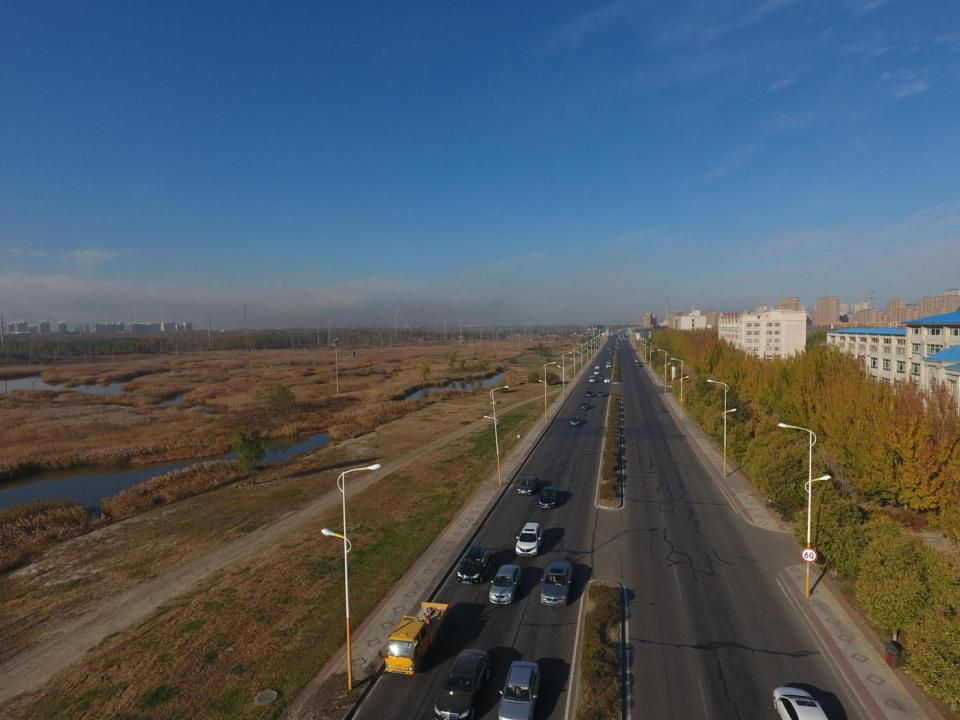car: (434, 648, 490, 720), (496, 660, 541, 720), (772, 686, 833, 720), (540, 561, 574, 607), (488, 563, 523, 606), (457, 547, 491, 584), (515, 523, 542, 560), (517, 476, 541, 496), (539, 485, 558, 509), (570, 415, 581, 426), (580, 401, 589, 410), (598, 390, 605, 398), (585, 390, 593, 397), (604, 377, 610, 383), (599, 374, 605, 379), (593, 371, 600, 374), (595, 365, 600, 369), (606, 364, 611, 368), (606, 346, 610, 350), (607, 360, 611, 363), (638, 363, 642, 366), (635, 359, 639, 362), (610, 350, 613, 354), (610, 342, 612, 344), (625, 338, 628, 339), (620, 339, 622, 340)
truck: (385, 602, 450, 675), (589, 375, 595, 383)
